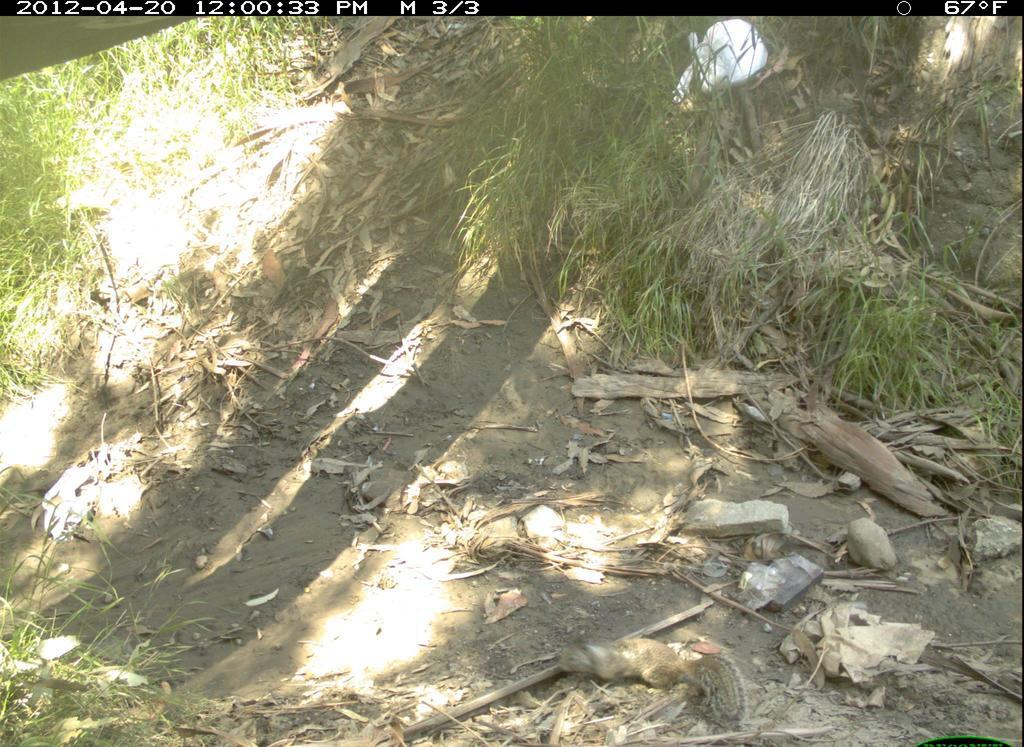squirrel: (524, 624, 747, 744)
